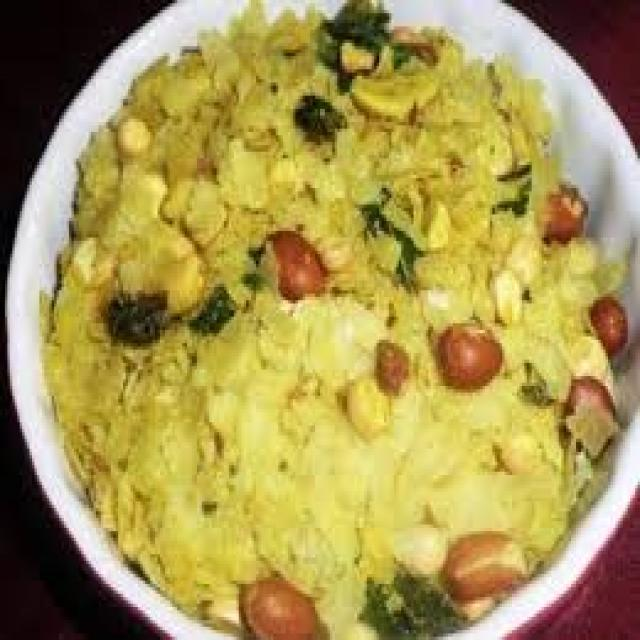POHA: (45, 6, 627, 637)
